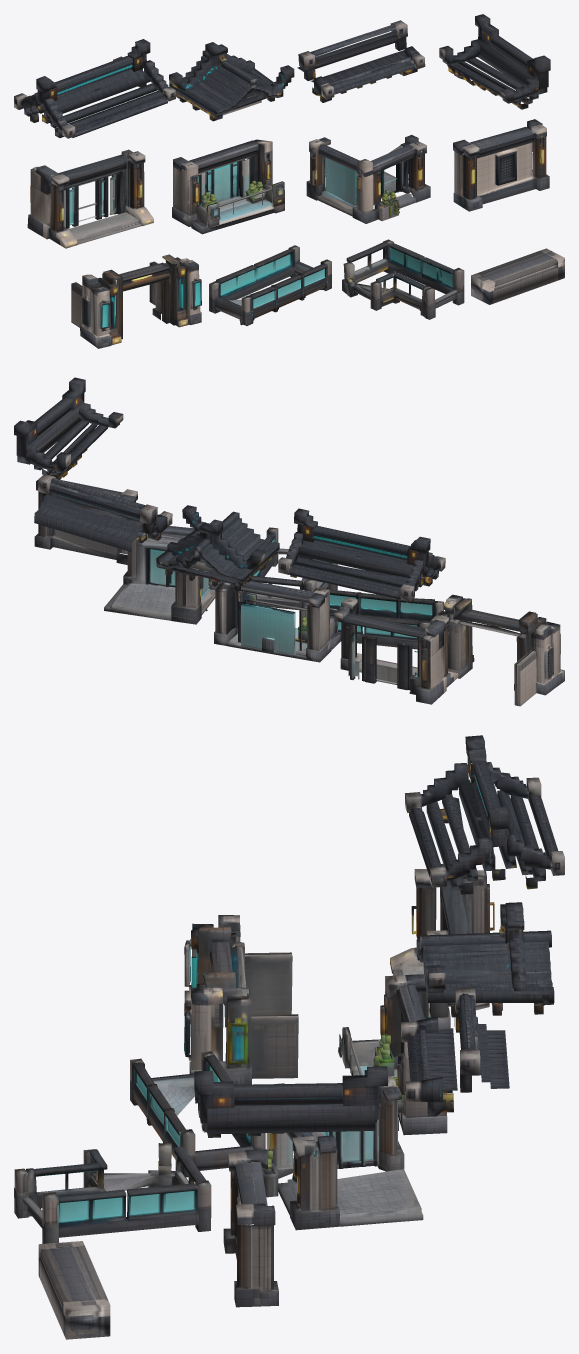
The model's file is tripo-original.glb.
The picture shows the model from 3 angles, top to bottom: view 1: azimuth 30°, elevation 25°; view 2: azimuth 150°, elevation 25°; view 3: azimuth 270°, elevation 25°; orthographic projection. The views are drawn at different scales.
Parts seen in each view (by area): view 1: tripo_015be767_c9ce_4c5a_bcae_930d89ace4eb; view 2: tripo_015be767_c9ce_4c5a_bcae_930d89ace4eb; view 3: tripo_015be767_c9ce_4c5a_bcae_930d89ace4eb.
Boxes of the visible parts, x1,y1,x2,y2 form: tripo_015be767_c9ce_4c5a_bcae_930d89ace4eb: (14,14,564,348); tripo_015be767_c9ce_4c5a_bcae_930d89ace4eb: (14,377,564,706); tripo_015be767_c9ce_4c5a_bcae_930d89ace4eb: (14,735,564,1339).
Size of the model in its own units: 0.9995 by 0.4146 by 0.6567.
1 material, 1 textured.
